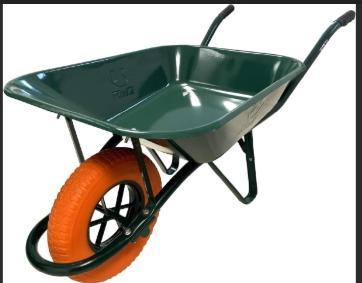BROUETTE: (0, 6, 354, 283)
